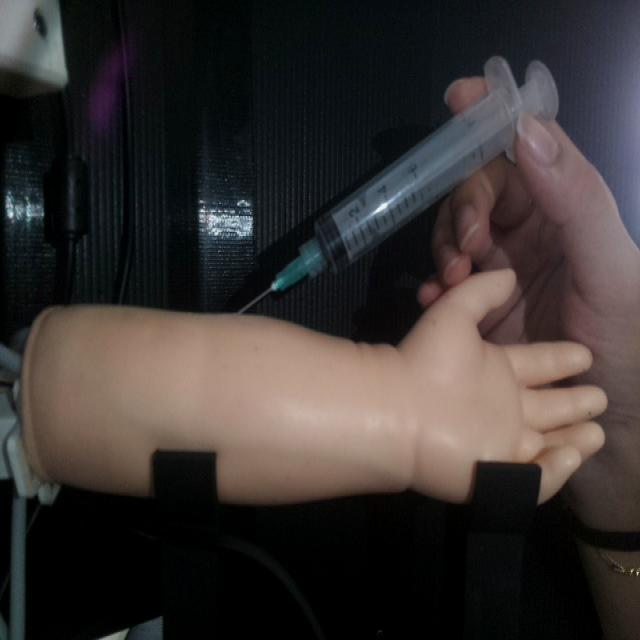Above 30 degrees: (230, 52, 560, 316)
